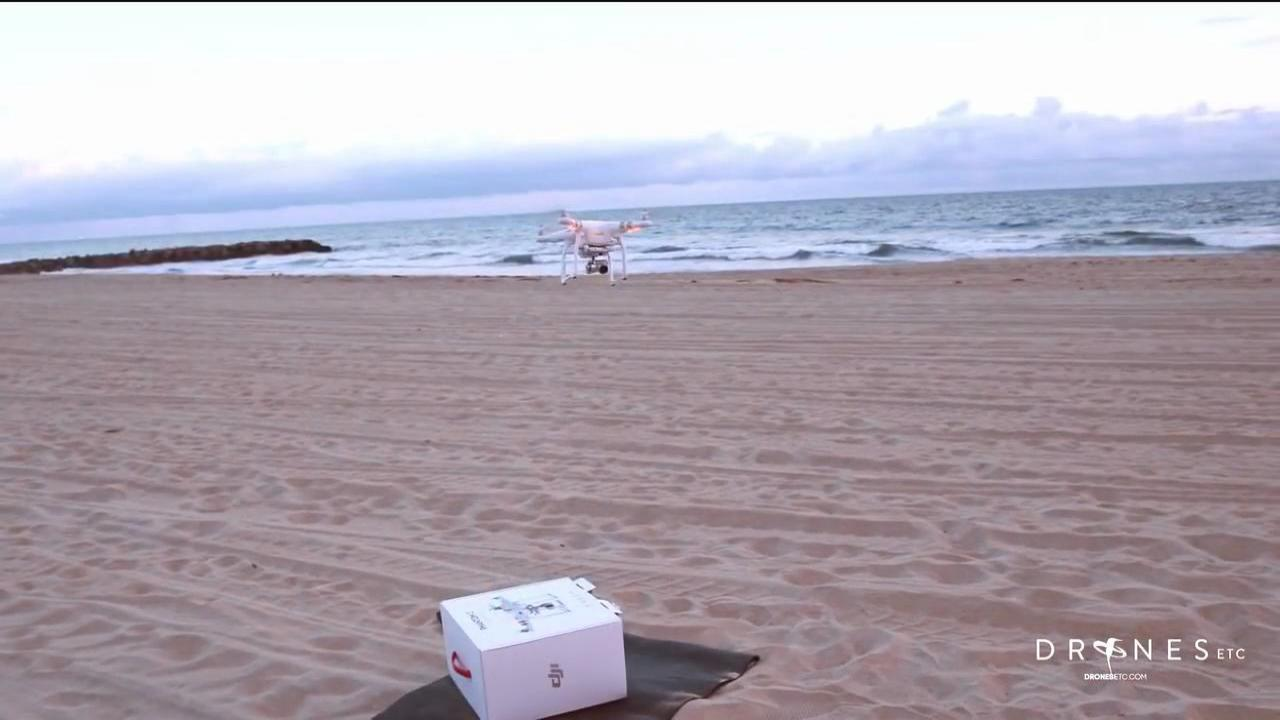Drone: (521, 192, 663, 293)
